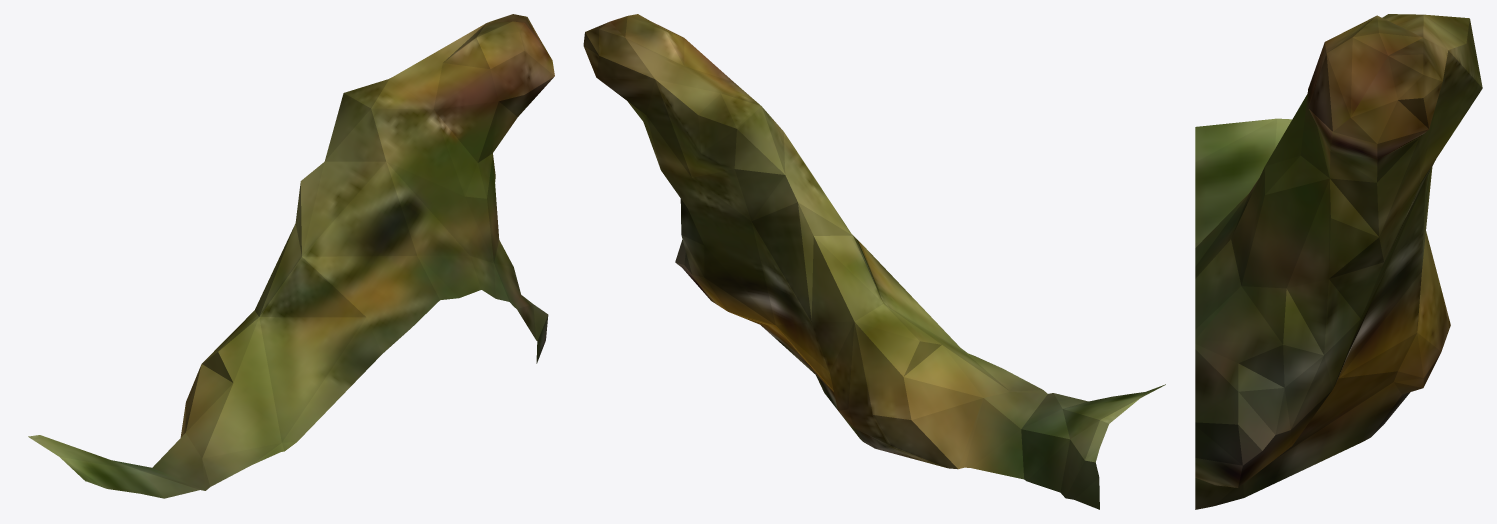
3 views of the same model, side by side, from view 1: azimuth 30°, elevation 25°; view 2: azimuth 150°, elevation 25°; view 3: azimuth 270°, elevation 25° (orthographic). The views are drawn at different scales.
Size of the model in its own units: 0.4356 by 0.2994 by 0.1339.
Materials: 1 (1 with a texture image).
